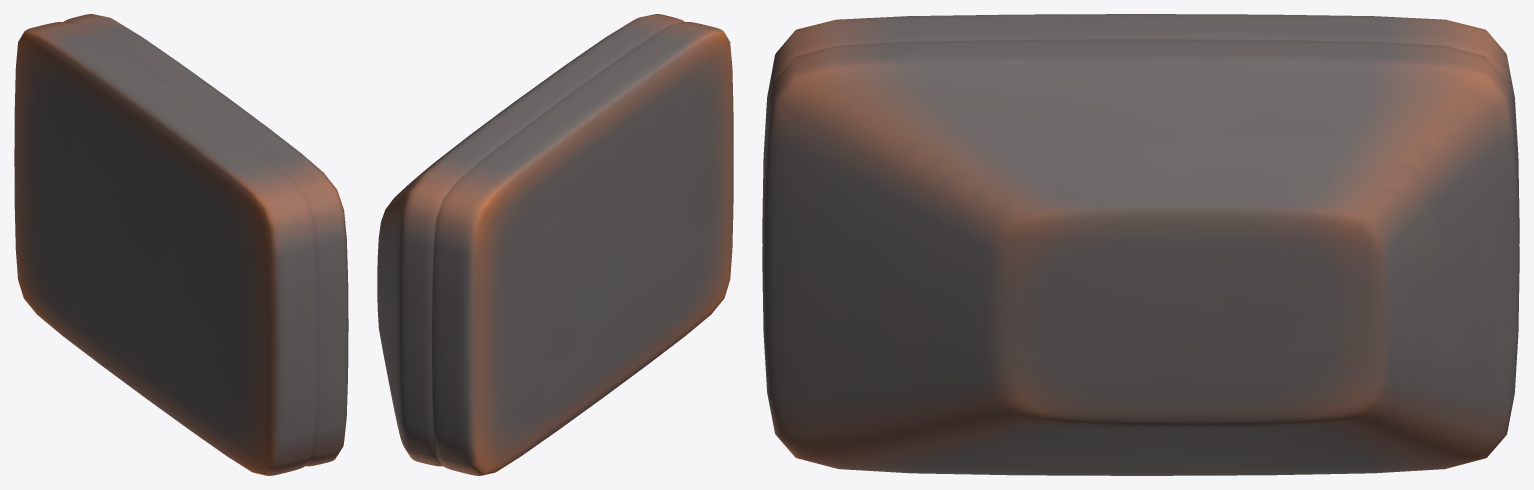
3 renders of one model, left to right at view 1: azimuth 30°, elevation 25°; view 2: azimuth 150°, elevation 25°; view 3: azimuth 270°, elevation 25°, orthographic. The views are drawn at different scales.
Parts seen in each view (by area): view 1: Cube.041; view 2: Cube.041; view 3: Cube.041.
Part boxes in pixels (x1,y1,x2,y2): Cube.041: (14,14,348,475); Cube.041: (377,14,733,475); Cube.041: (762,14,1519,475).
Size of the model in its own units: 0.2862 by 0.5381 by 0.8837.
Materials: 1 (1 with a texture image).
